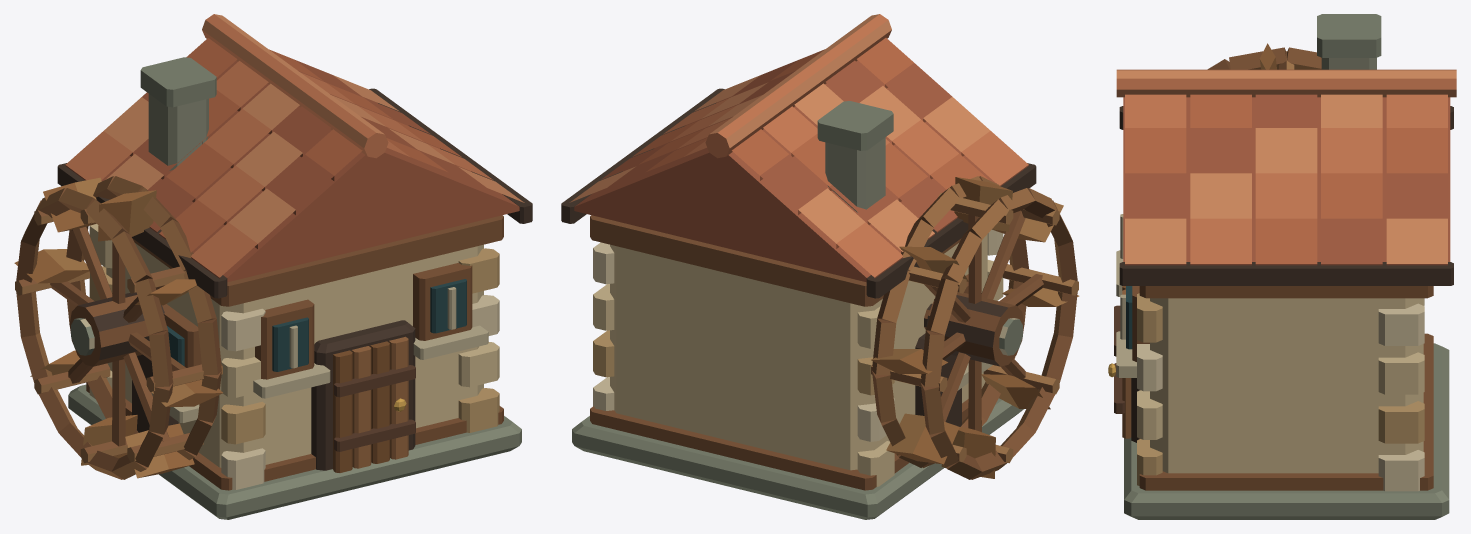
Rendered from watermill.glb.
3 renders of one model, left to right at view 1: azimuth 30°, elevation 25°; view 2: azimuth 150°, elevation 25°; view 3: azimuth 270°, elevation 25°, orthographic. The views are drawn at different scales.
Visible parts, largest first — view 1: Watermill_House, WaterWheel; view 2: Watermill_House, WaterWheel; view 3: Watermill_House, WaterWheel.
Boxes of the visible parts, <box> form: Watermill_House: <box>57,14,532,519</box>; WaterWheel: <box>14,176,222,479</box>; Watermill_House: <box>561,14,1036,519</box>; WaterWheel: <box>871,176,1079,479</box>; Watermill_House: <box>1108,14,1456,519</box>; WaterWheel: <box>1207,43,1321,69</box>.
Bounding box in the file's own units: 2.46 × 2.25 × 1.9.
